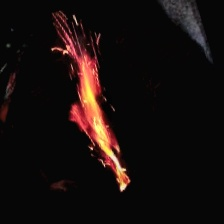fire: (32, 0, 159, 212)
